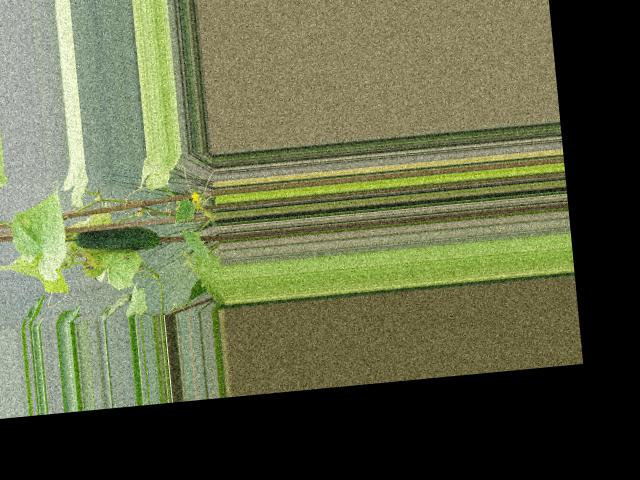cucumber: (74, 223, 162, 256)
